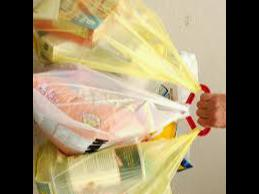Plastic: (33, 0, 209, 79)
